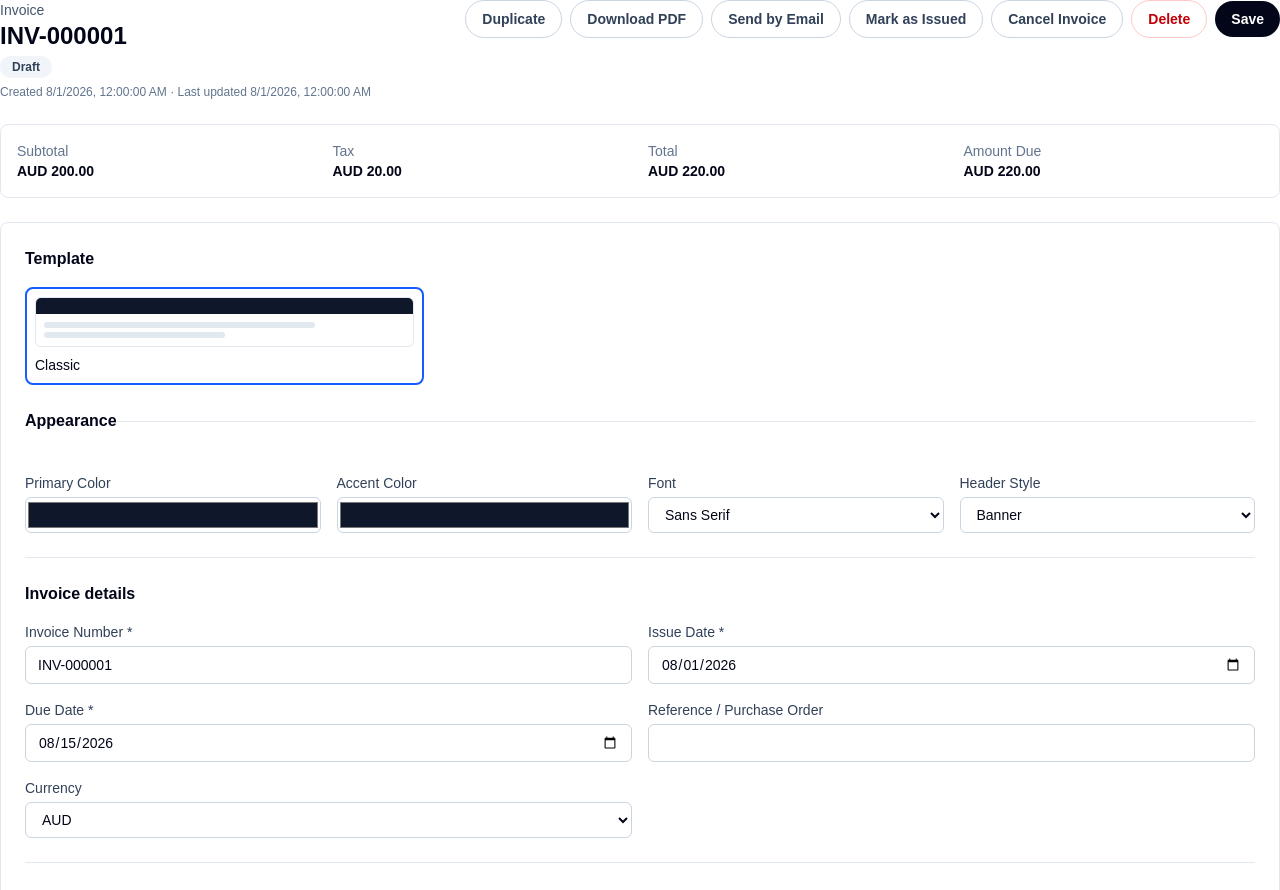
Scenario: InvoiceDetail › cancel and delete (IG-49) › shows the server's error inside the dialog when deleting fails, and does not navigate away
Click the button "Delete": (1169, 19) [1131,0,1207,38]
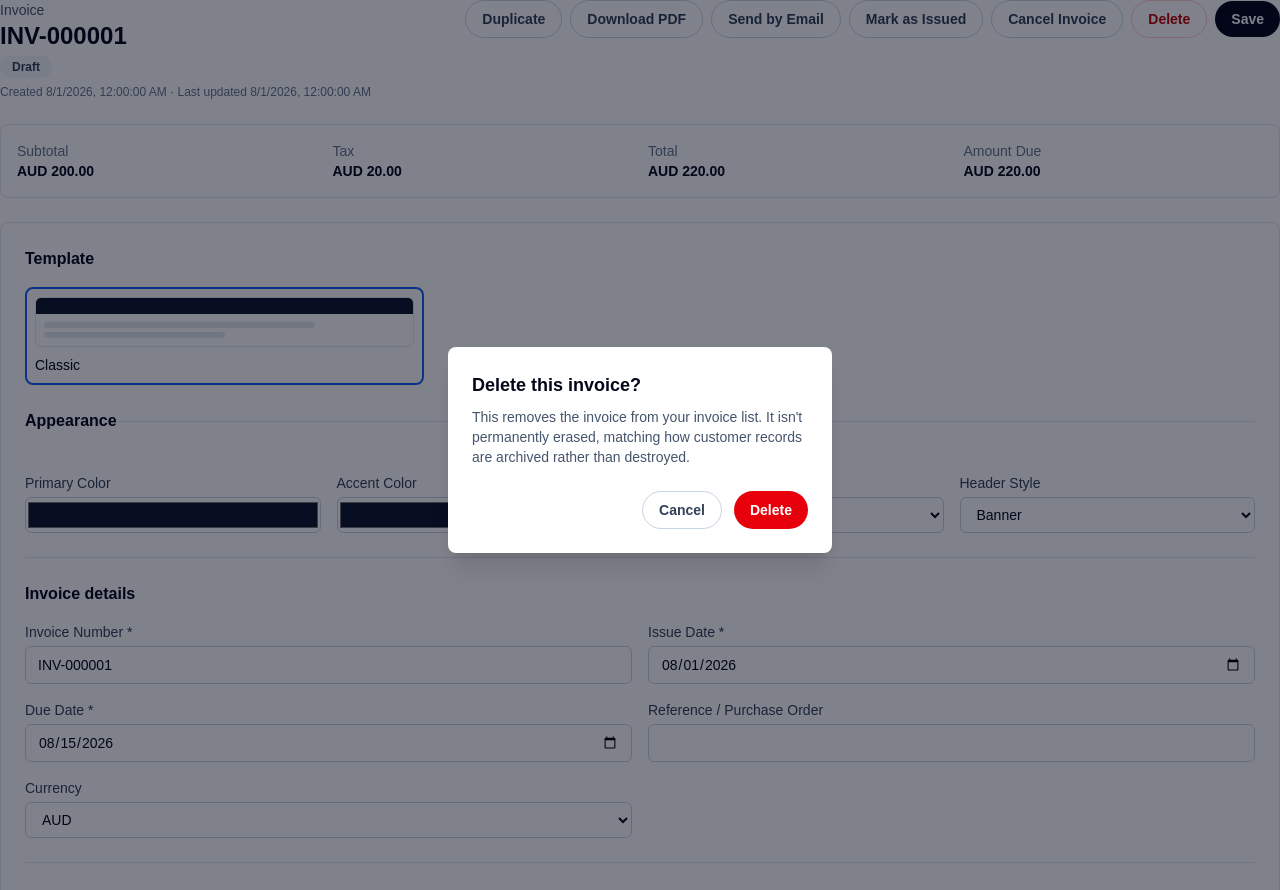
Click the button "Delete": (771, 510) [734,491,808,529]
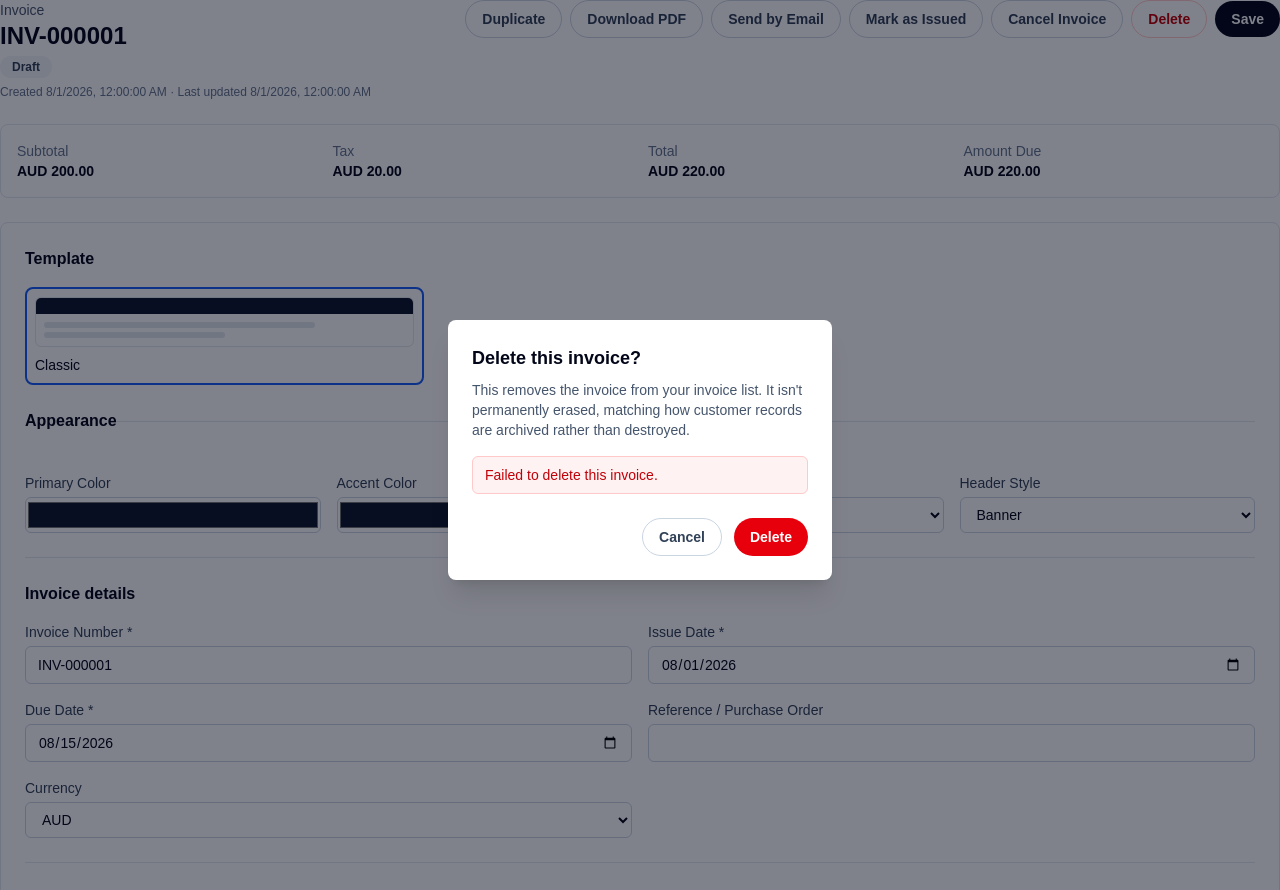
Now the message reads "Failed to delete this invoice.", box [485,467,658,483]
